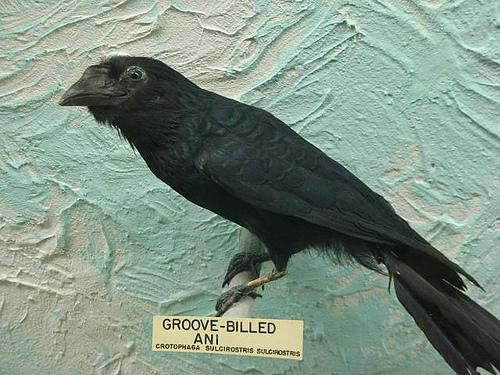004.Groove_billed_Ani: (59, 56, 498, 374)
